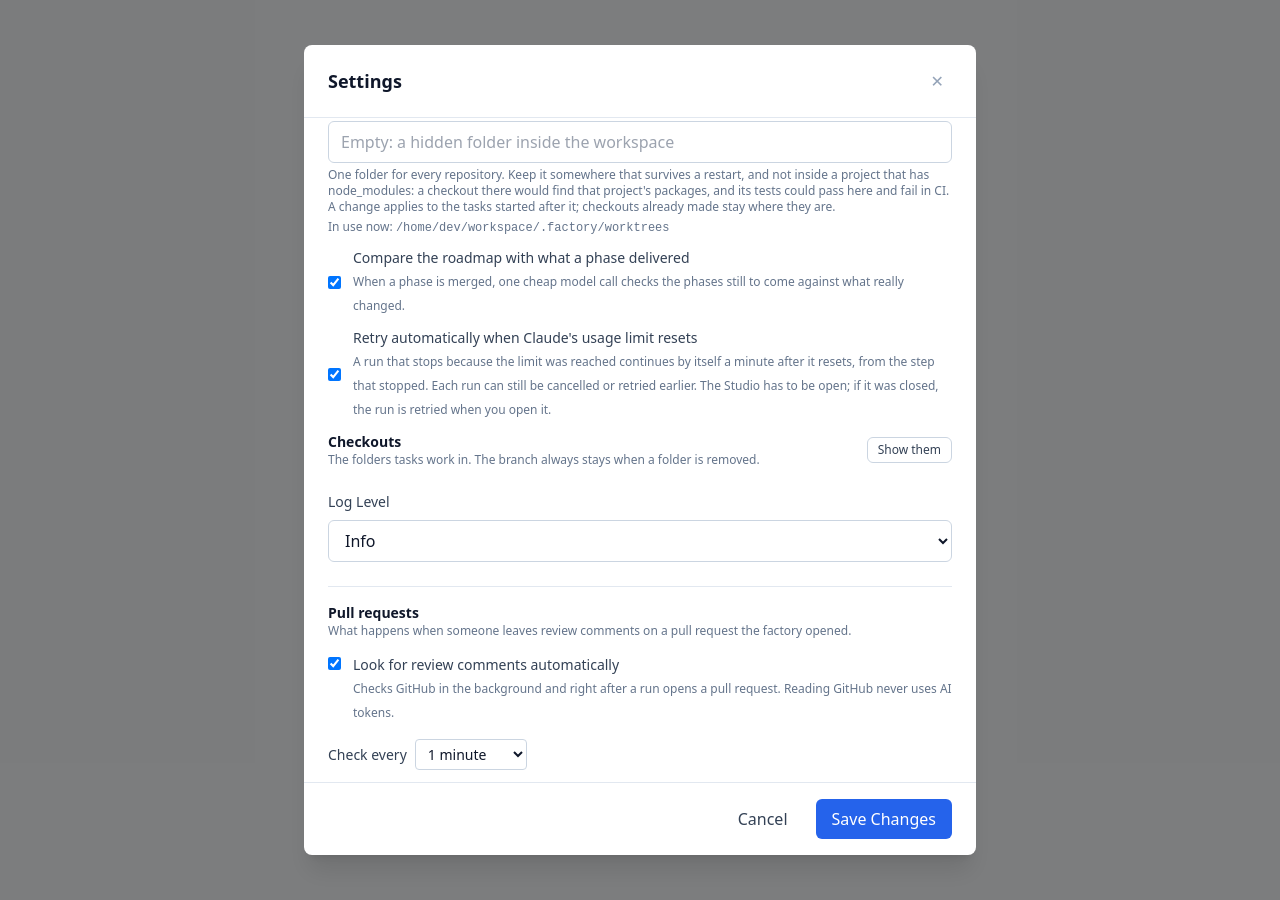
the checkouts › says when there are none
(page scrolled)
Click the button "Show them".
click(909, 450)  # box [867,437,952,463]
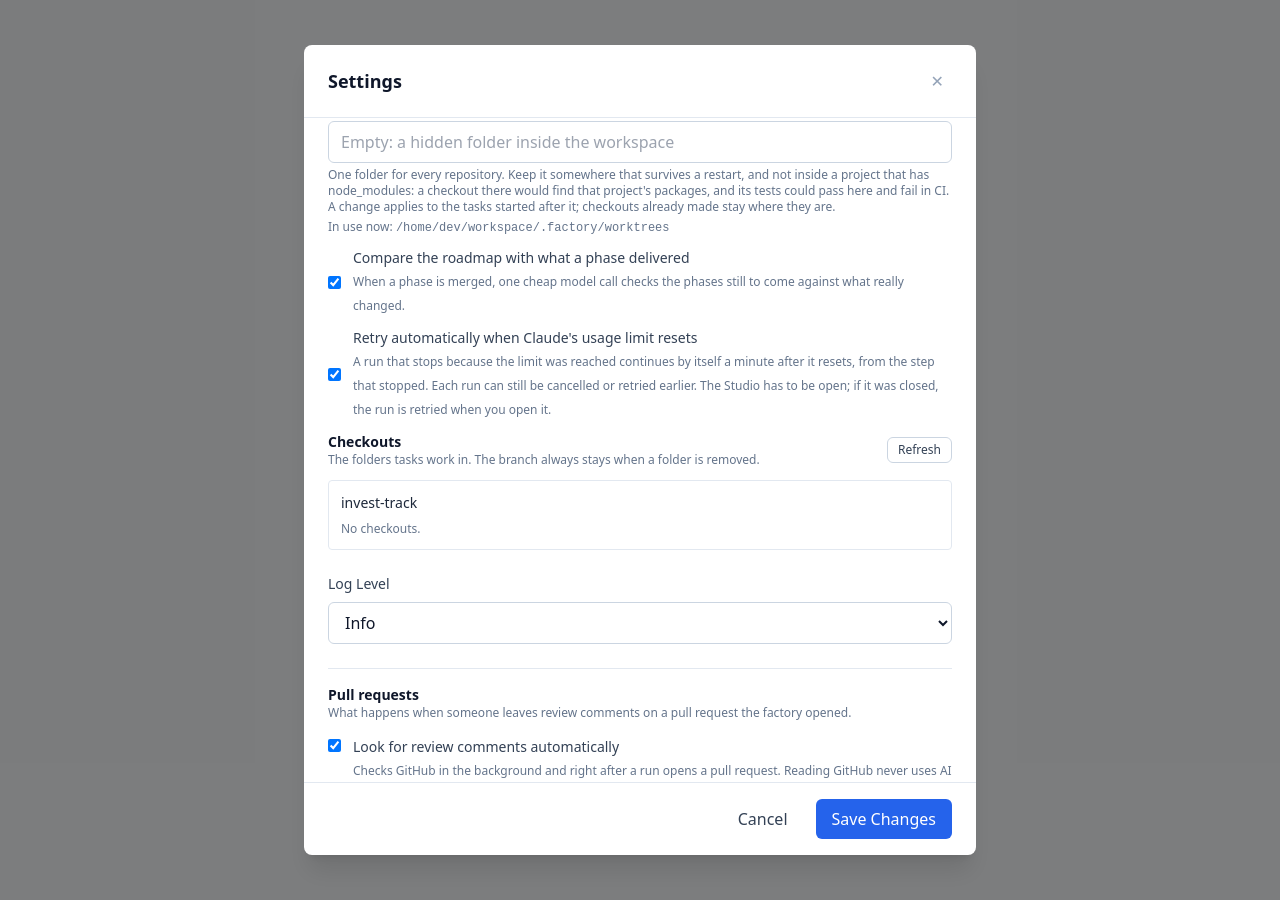
Check: the element with test id "worktrees-invest-track" shows "No checkouts.", box [341,520,421,537]
